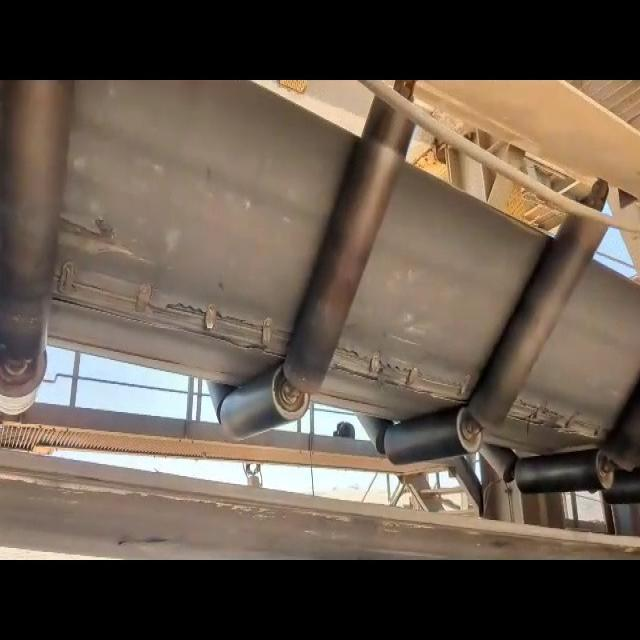Tear: (50, 264, 297, 364), (329, 338, 478, 408), (507, 394, 608, 446)
Wear: (53, 205, 155, 268)
